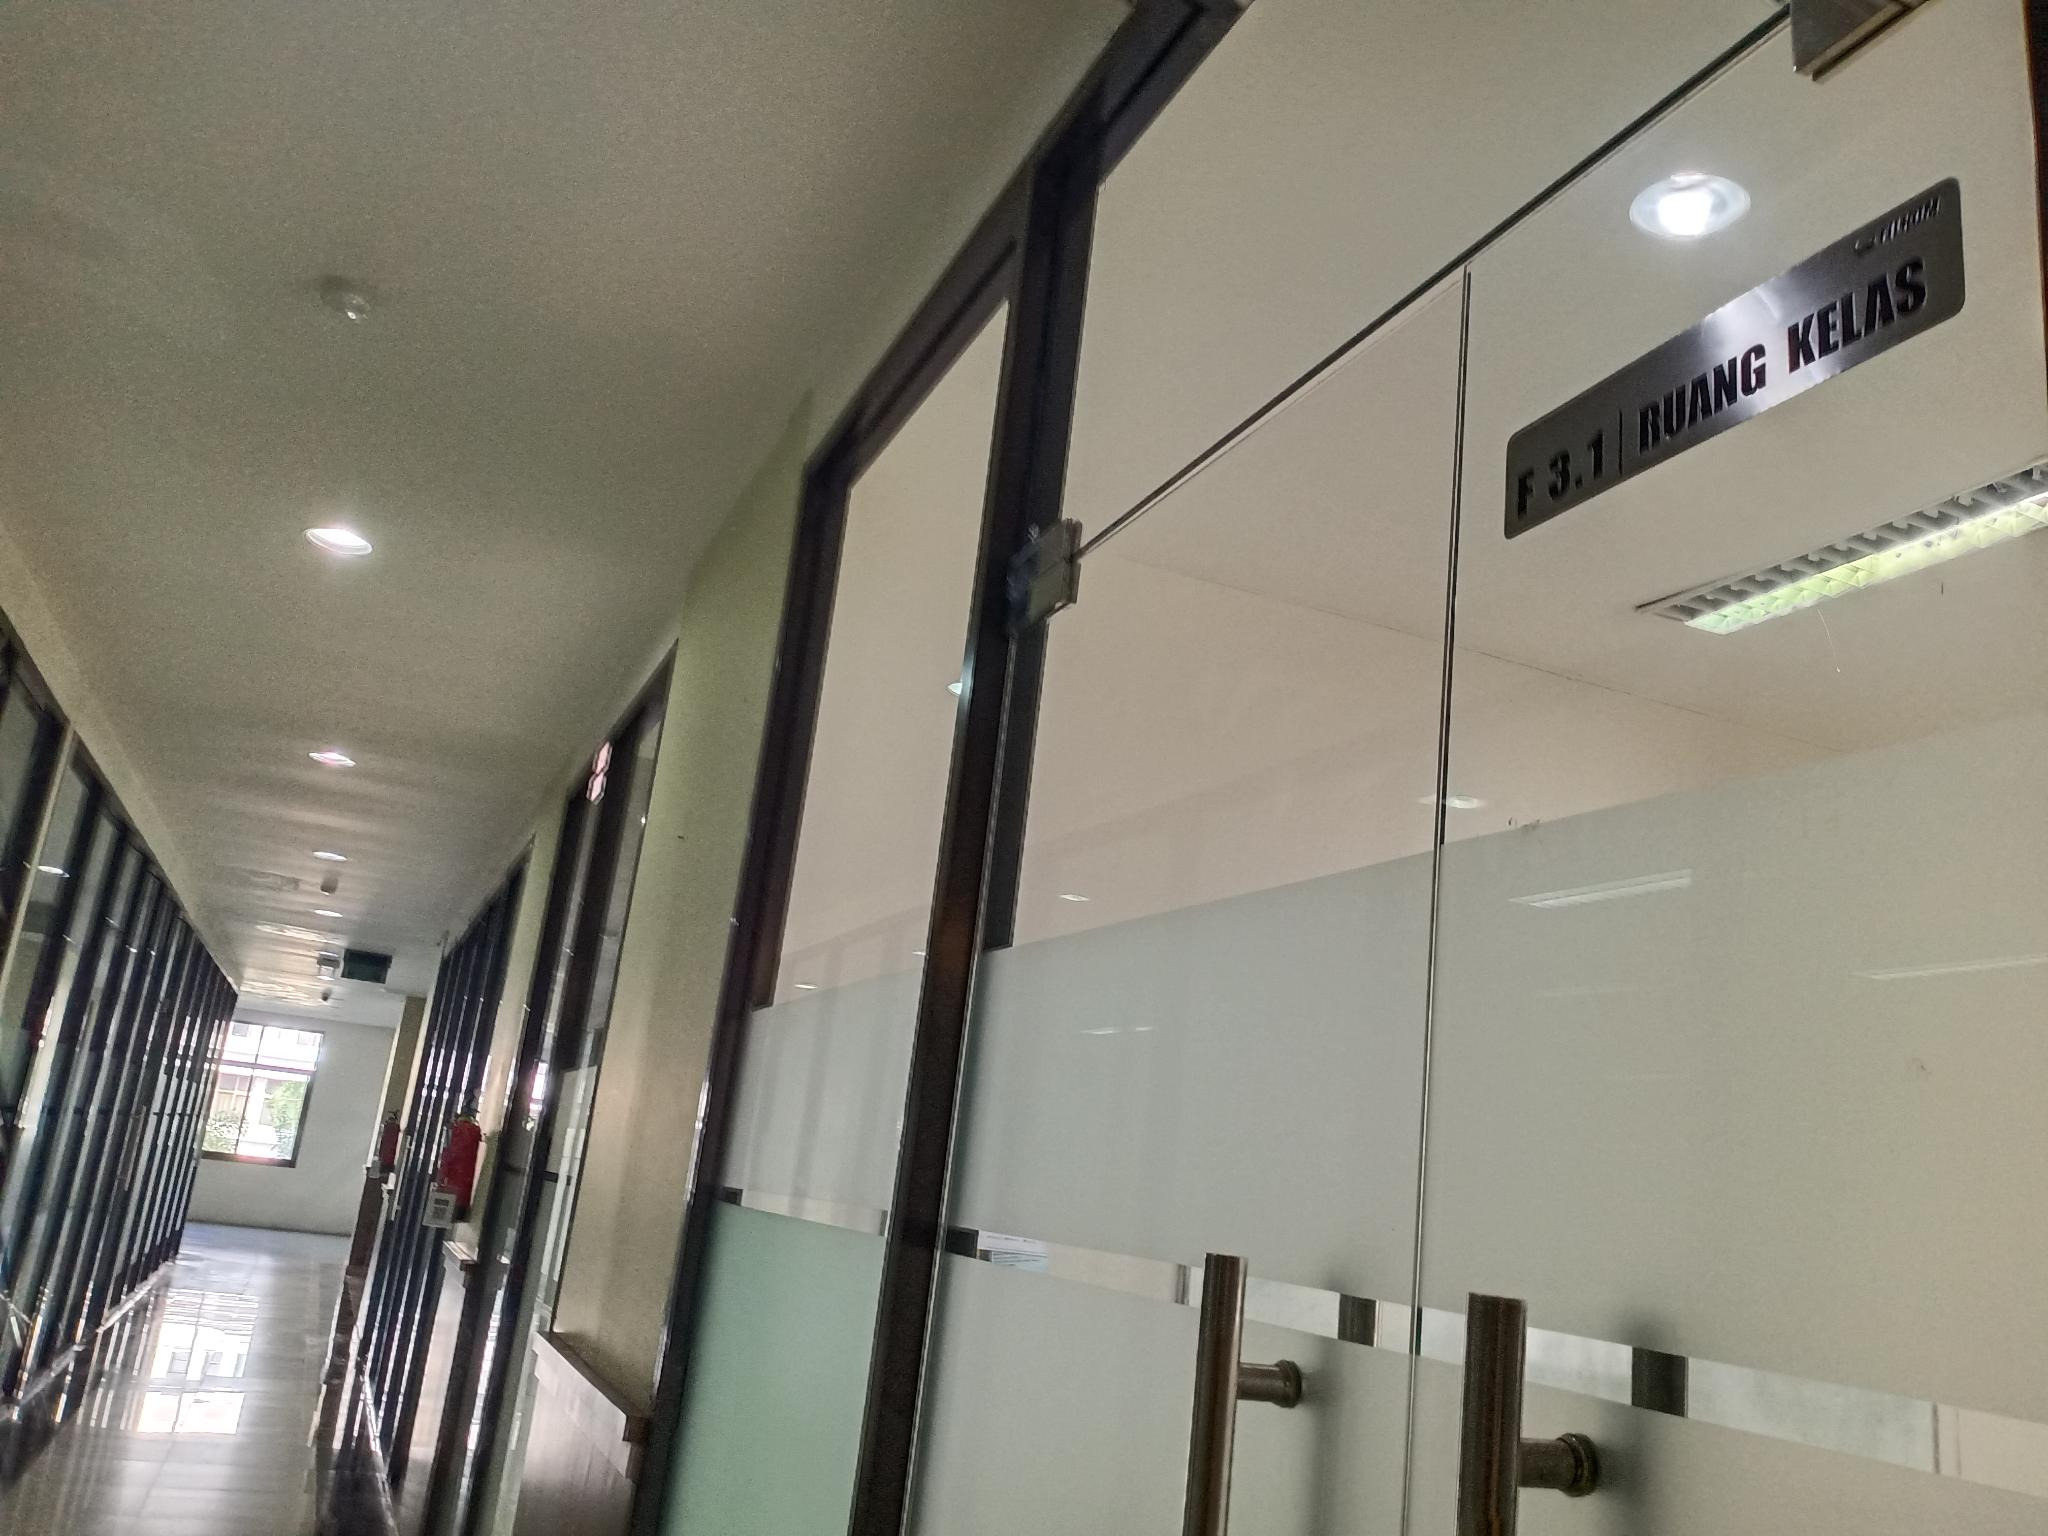plate: (1503, 176, 1966, 541)
